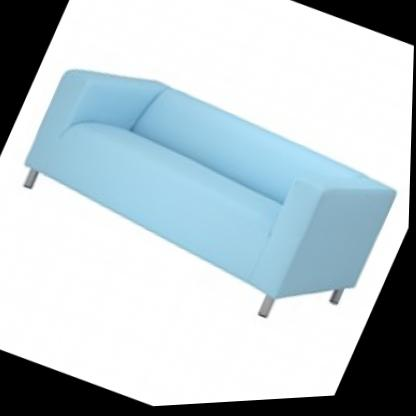Sofa: (0, 9, 415, 378)
